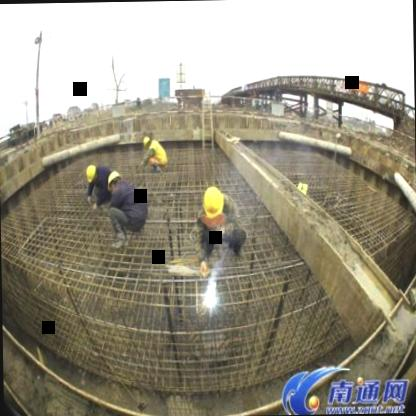helmet: (200, 184, 227, 228), (106, 166, 126, 192), (82, 160, 100, 185), (141, 132, 153, 148)
